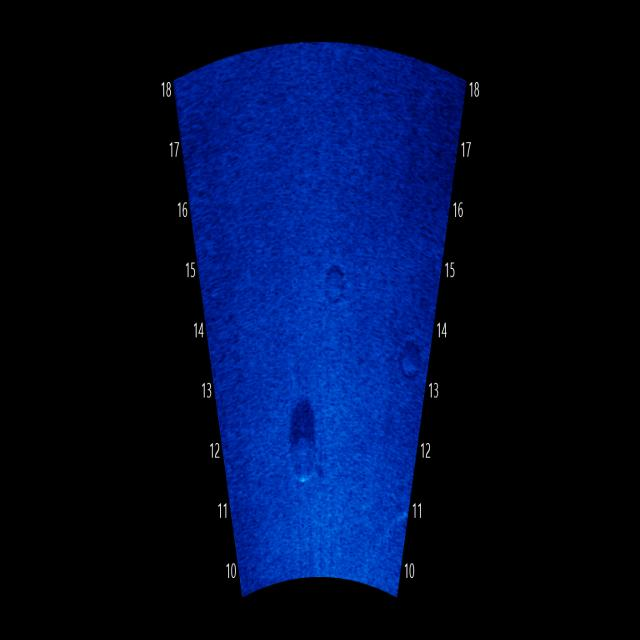circle: (286, 420, 328, 490), (320, 252, 352, 311)
